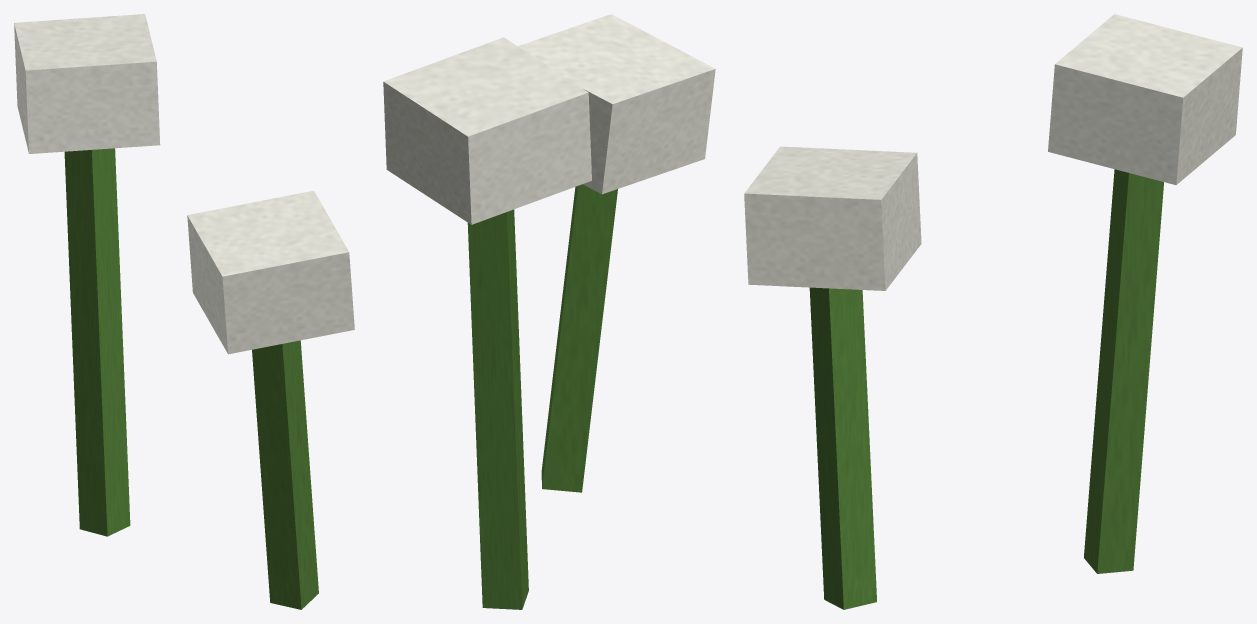
Rendered from Deco_Fleurs_C.obj.
3 renders of one model, left to right at view 1: azimuth 30°, elevation 25°; view 2: azimuth 150°, elevation 25°; view 3: azimuth 270°, elevation 25°, orthographic. The views are drawn at different scales.
Parts seen in each view (by area): view 1: Deco_Fleurs_C; view 2: Deco_Fleurs_C; view 3: Deco_Fleurs_C.
Part boxes in pixels (box(x1,y1,x2,y2)): Deco_Fleurs_C: box(14, 14, 354, 609); Deco_Fleurs_C: box(383, 14, 715, 609); Deco_Fleurs_C: box(744, 14, 1242, 609).
Size of the model in its own units: 0.7235 by 1.77 by 1.55.
1 material, 1 textured.
